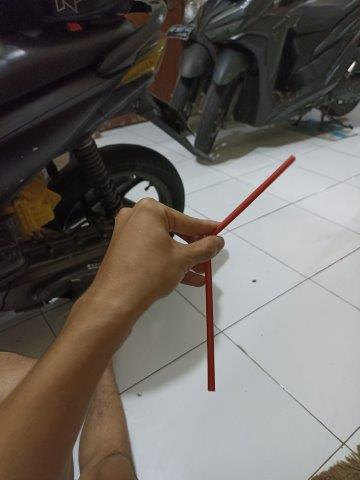sedotan: (205, 156, 295, 387)
